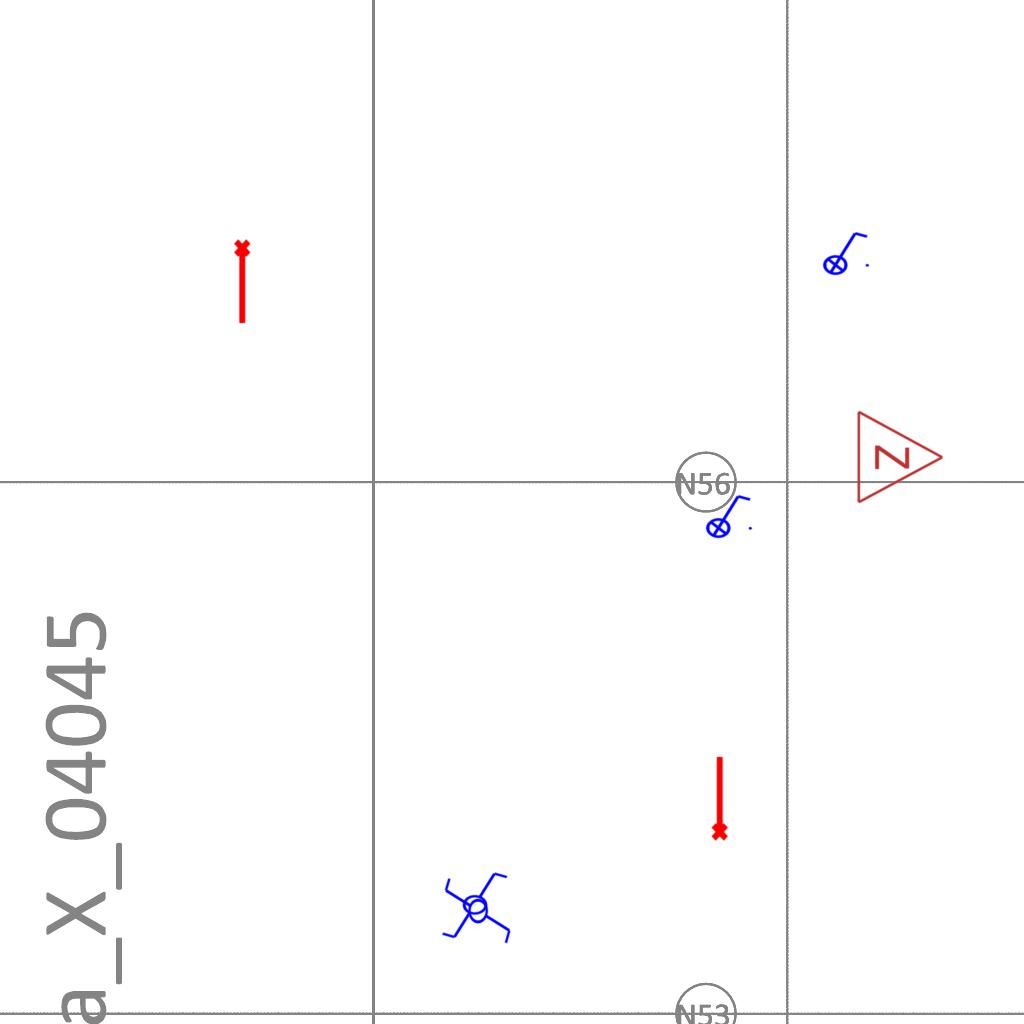ASR_Ansaugoeffnung: (232, 238, 255, 326), (707, 754, 730, 842)
Ausschalter_beleuchtet: (699, 491, 755, 539), (816, 228, 872, 276)
Wechselschalter: (440, 870, 518, 942), (441, 876, 513, 954)
Zimmersignalleuchte: (850, 407, 950, 505)
